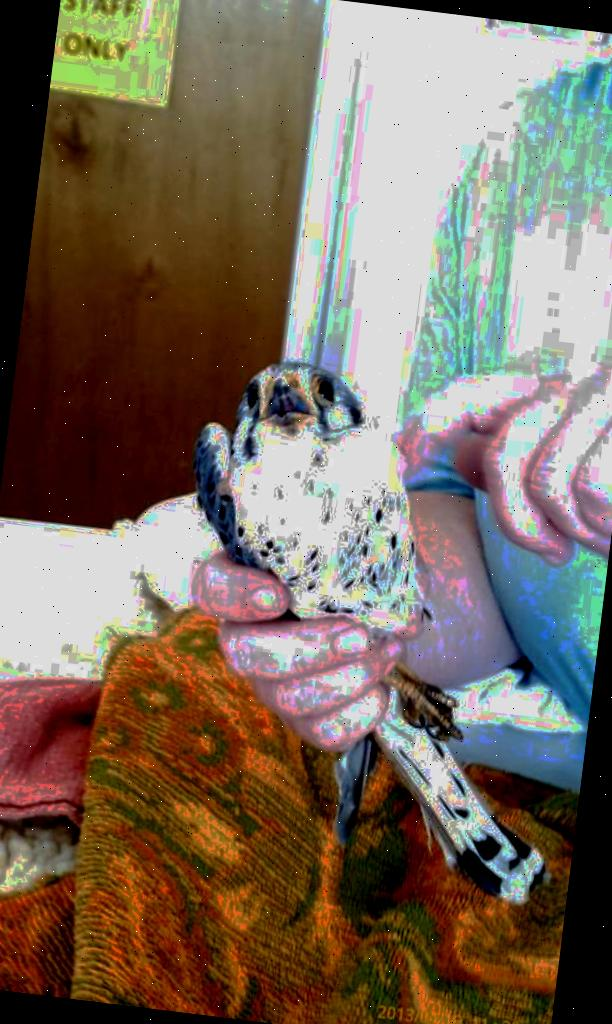Owl: (140, 347, 612, 921)
